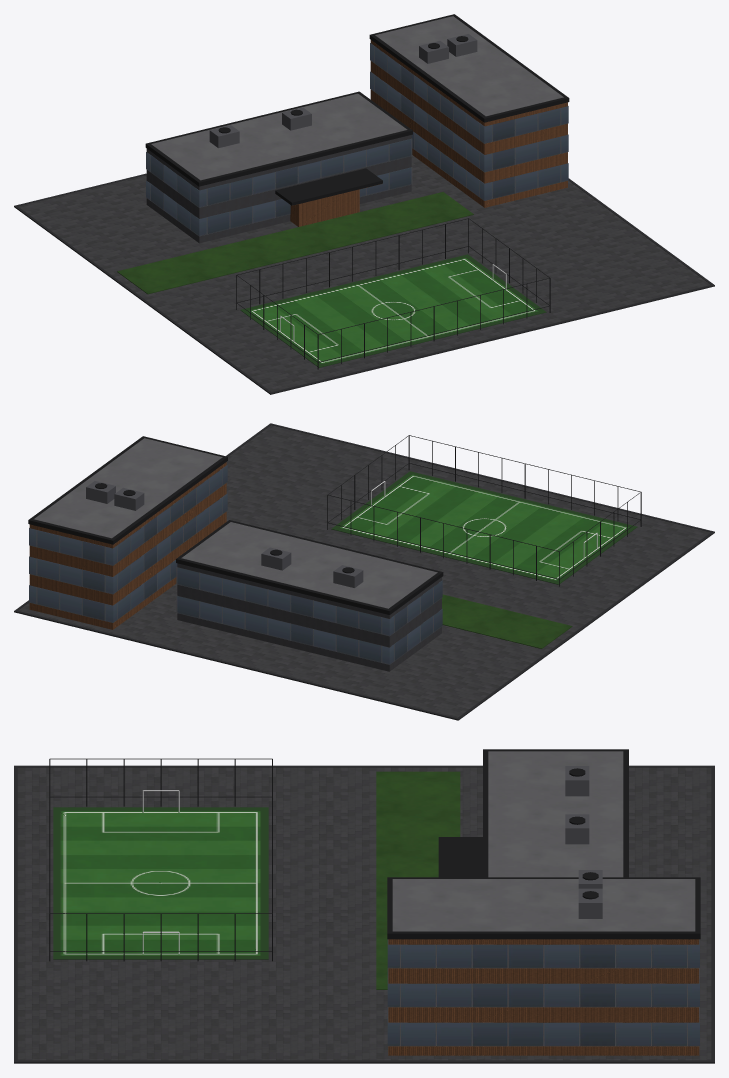
The model's file is academy_L2.glb.
3 views of the same model, one above another, from view 1: azimuth 30°, elevation 25°; view 2: azimuth 150°, elevation 25°; view 3: azimuth 270°, elevation 25° (orthographic). The views are drawn at different scales.
Parts seen in each view (by area): view 1: paving_academy_L2, emissive_curtain_academy_L2, turf_cage_academy_L2, roofing_academy_L2, lawn_academy_L2, black_metal_academy_L2, wood_academy_L2, cladding_academy_L2, concrete_dark_academy_L2, steel_academy_L2; view 2: paving_academy_L2, emissive_curtain_academy_L2, turf_cage_academy_L2, roofing_academy_L2, black_metal_academy_L2, wood_academy_L2, cladding_academy_L2, concrete_dark_academy_L2, lawn_academy_L2, steel_academy_L2; view 3: paving_academy_L2, turf_cage_academy_L2, roofing_academy_L2, emissive_curtain_academy_L2, wood_academy_L2, black_metal_academy_L2, lawn_academy_L2, concrete_dark_academy_L2, steel_academy_L2.
Part boxes in pixels (left/top/right/bottom): paving_academy_L2: left=18, top=155, right=710, bottom=391; emissive_curtain_academy_L2: left=146, top=43, right=568, bottom=236; turf_cage_academy_L2: left=240, top=254, right=546, bottom=367; roofing_academy_L2: left=151, top=16, right=563, bottom=180; lawn_academy_L2: left=117, top=192, right=473, bottom=294; black_metal_academy_L2: left=145, top=14, right=569, bottom=369; wood_academy_L2: left=290, top=40, right=567, bottom=226; cladding_academy_L2: left=146, top=135, right=411, bottom=243; concrete_dark_academy_L2: left=14, top=173, right=714, bottom=394; steel_academy_L2: left=209, top=34, right=477, bottom=148; paving_academy_L2: left=18, top=425, right=710, bottom=717; emissive_curtain_academy_L2: left=29, top=465, right=442, bottom=664; turf_cage_academy_L2: left=331, top=471, right=637, bottom=584; roofing_academy_L2: left=34, top=438, right=437, bottom=608; black_metal_academy_L2: left=28, top=435, right=641, bottom=614; wood_academy_L2: left=29, top=462, right=226, bottom=629; cladding_academy_L2: left=177, top=563, right=441, bottom=671; concrete_dark_academy_L2: left=14, top=423, right=714, bottom=720; lawn_academy_L2: left=442, top=594, right=572, bottom=648; steel_academy_L2: left=86, top=481, right=363, bottom=587; paving_academy_L2: left=17, top=767, right=711, bottom=1060; turf_cage_academy_L2: left=53, top=807, right=268, bottom=959; roofing_academy_L2: left=392, top=751, right=695, bottom=931; emissive_curtain_academy_L2: left=387, top=939, right=699, bottom=1046; wood_academy_L2: left=388, top=939, right=699, bottom=1055; black_metal_academy_L2: left=49, top=749, right=700, bottom=961; lawn_academy_L2: left=376, top=771, right=460, bottom=989; concrete_dark_academy_L2: left=14, top=765, right=714, bottom=1063; steel_academy_L2: left=565, top=766, right=602, bottom=918.
Size of the model in its own units: 58.6 by 13.04 by 58.6.
Materials: 11 (7 with a texture image).
